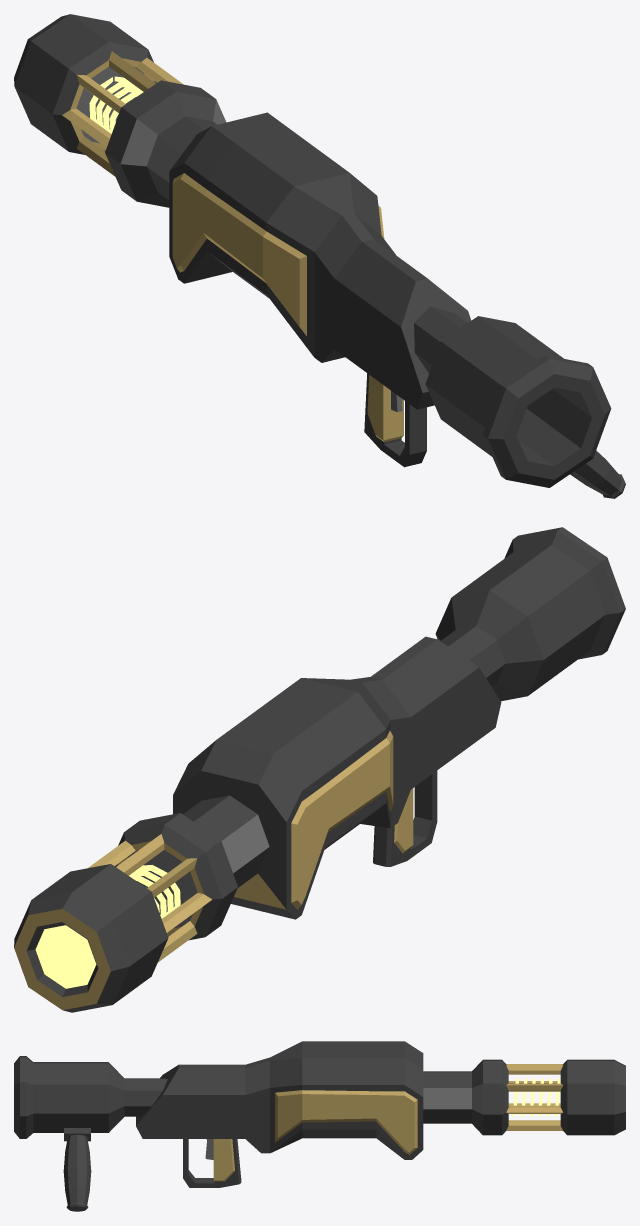
File: RocketLaunger.fbx
3 renders of one model, top to bottom at view 1: azimuth 30°, elevation 25°; view 2: azimuth 150°, elevation 25°; view 3: azimuth 270°, elevation 25°, orthographic. The views are drawn at different scales.
Visible parts, largest first — view 1: RocketLaunger; view 2: RocketLaunger; view 3: RocketLaunger.
Boxes of the visible parts, left/top/right/bottom form: RocketLaunger: left=14, top=14, right=625, bottom=498; RocketLaunger: left=14, top=527, right=625, bottom=1012; RocketLaunger: left=14, top=1041, right=625, bottom=1211.
Bounding box in the file's own units: 217 × 251 × 1023.
